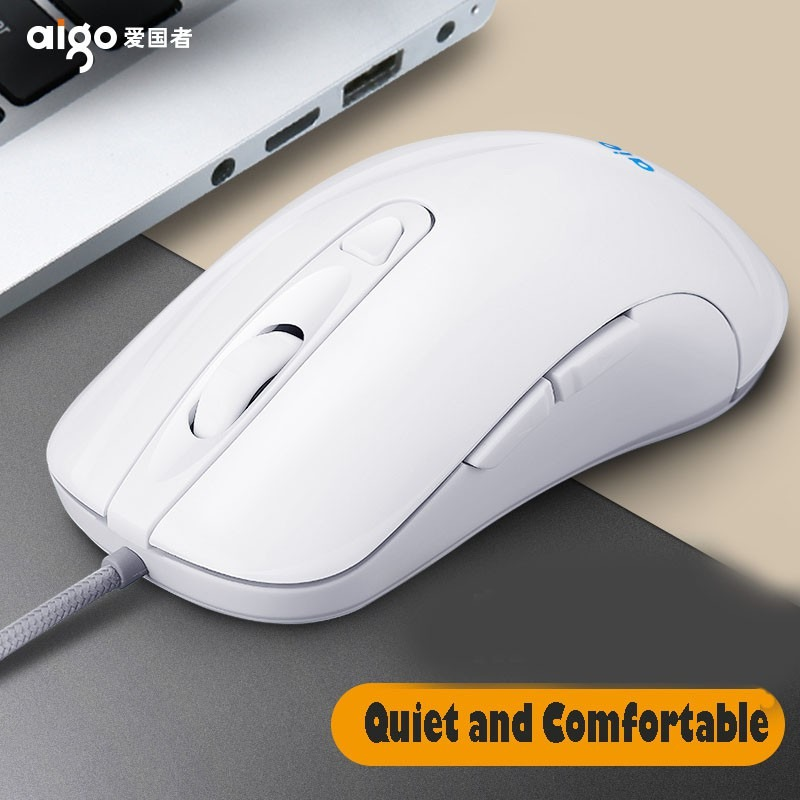mouse: (41, 120, 792, 643)
